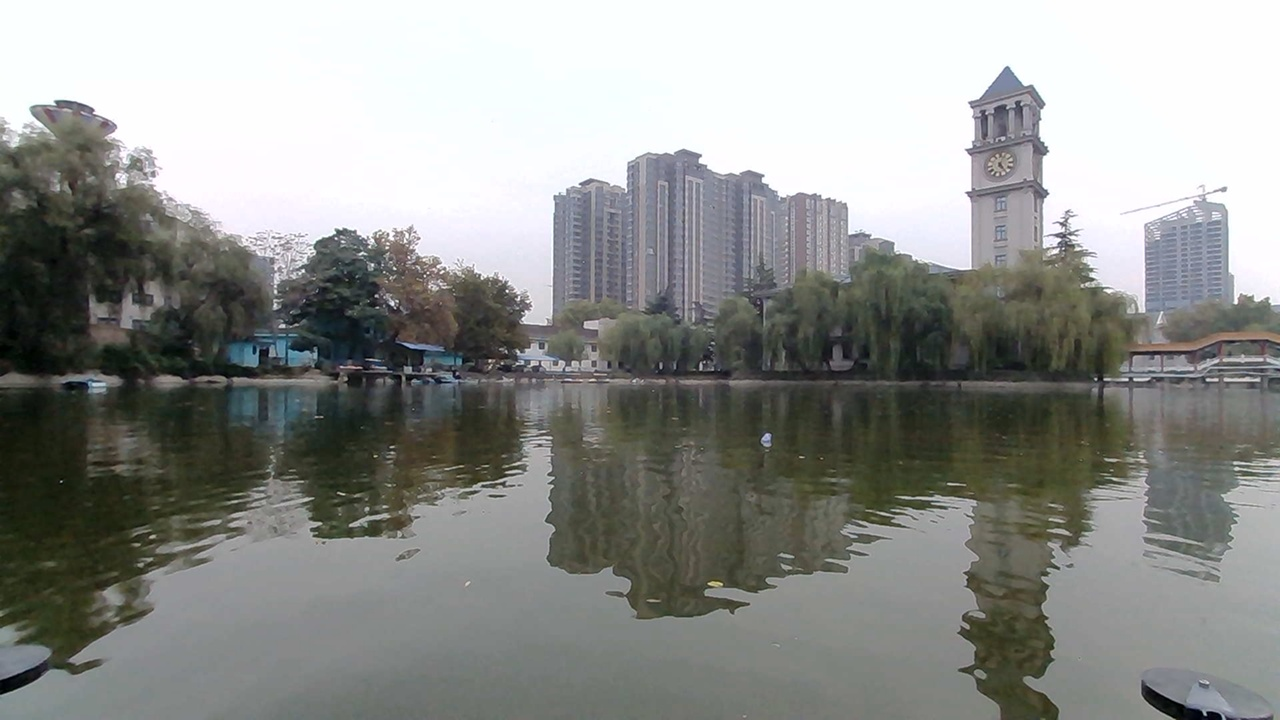bottle: (746, 420, 795, 452)
